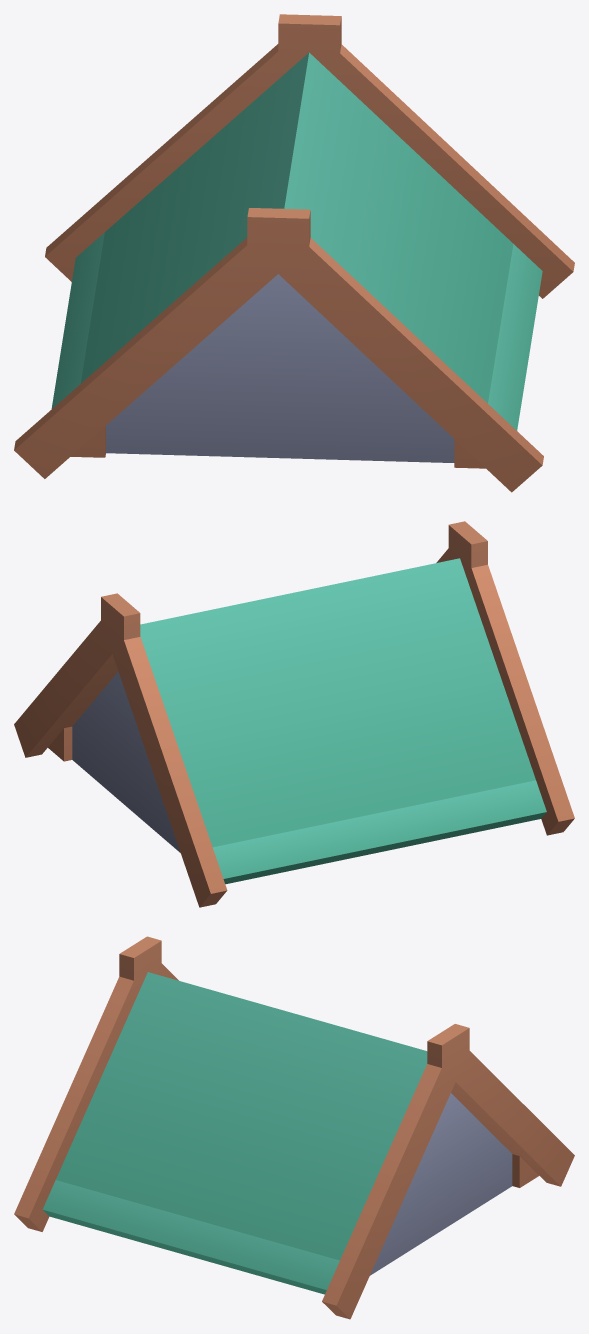
The model's file is roof-gable-detail.001_lev1.glb.
The picture shows the model from 3 angles, top to bottom: view 1: azimuth 30°, elevation 25°; view 2: azimuth 150°, elevation 25°; view 3: azimuth 270°, elevation 25°; orthographic projection. The views are drawn at different scales.
Visible parts, largest first — view 1: roof-gable-detail.001_lev1; view 2: roof-gable-detail.001_lev1; view 3: roof-gable-detail.001_lev1.
Boxes of the visible parts, x1,y1,x2,y2 form: roof-gable-detail.001_lev1: (14, 14, 574, 492); roof-gable-detail.001_lev1: (14, 521, 574, 907); roof-gable-detail.001_lev1: (14, 936, 574, 1319).
Size of the model in its own units: 7.03 by 2.94 by 6.89.
Materials: 1 (1 with a texture image).
